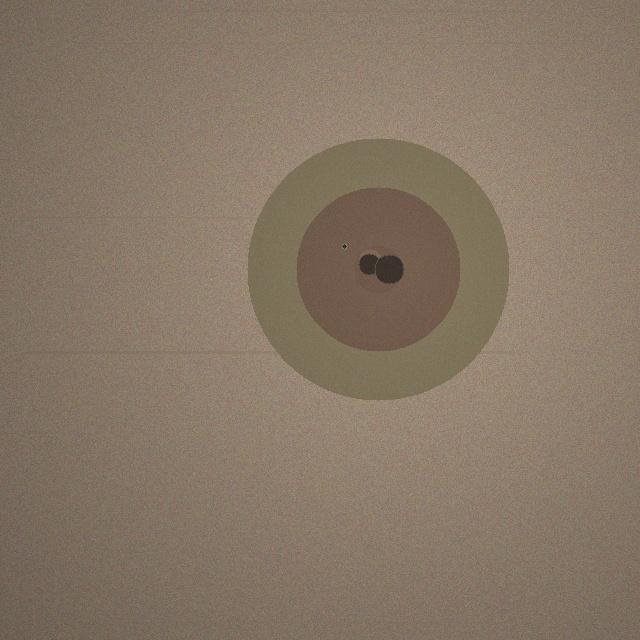shrinkage: (247, 138, 509, 400)
